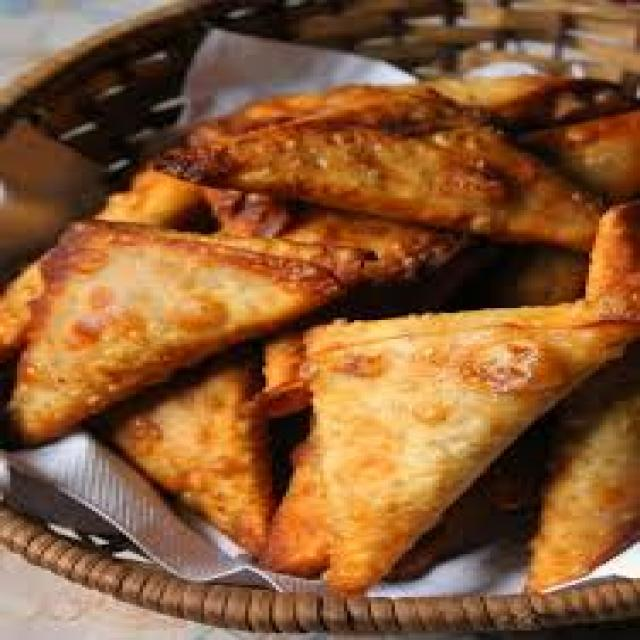SAMOSA: (304, 300, 637, 597), (142, 76, 607, 250), (5, 227, 333, 448), (108, 351, 271, 549), (521, 394, 637, 591)
